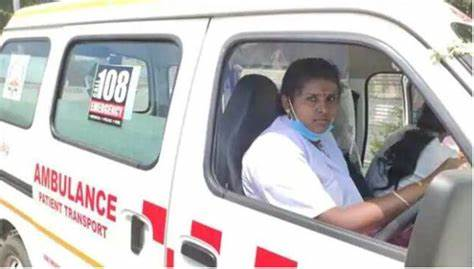ambulance: (2, 12, 474, 260)
